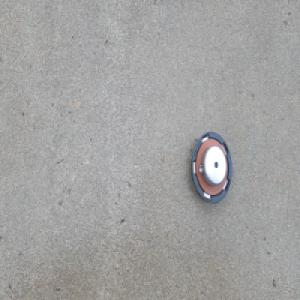FuelCap: (188, 129, 233, 206)
